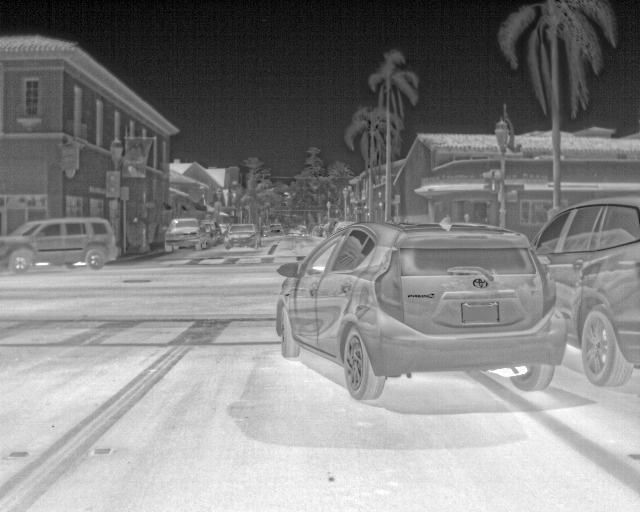bicycle: (271, 218, 569, 406), (532, 193, 639, 387), (1, 216, 121, 274), (162, 218, 205, 255), (222, 223, 262, 252), (204, 219, 221, 247)
